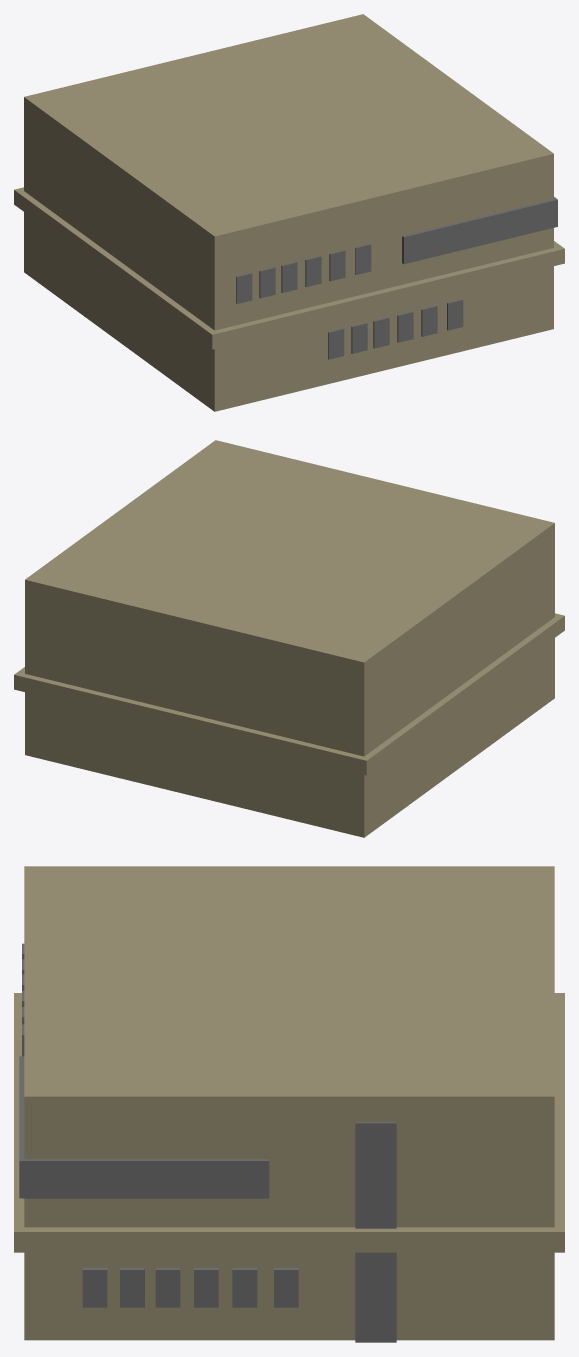
File: bldg.fbx
3 renders of one model, top to bottom at view 1: azimuth 30°, elevation 25°; view 2: azimuth 150°, elevation 25°; view 3: azimuth 270°, elevation 25°, orthographic. The views are drawn at different scales.
Visible parts, largest first — view 1: pCube72, pCube73, pCube77; view 2: pCube72, pCube73; view 3: pCube72, pCube73, pCube76, pCube74, pCube75, pCube86, pCube90, pCube88, pCube85, pCube87, pCube89, pCube77.
Boxes of the visible parts, left/top/right/bottom form: pCube72: left=24, top=14, right=553, bottom=411; pCube73: left=14, top=187, right=564, bottom=349; pCube77: left=402, top=197, right=557, bottom=264; pCube72: left=25, top=440, right=554, bottom=837; pCube73: left=14, top=613, right=564, bottom=775; pCube72: left=24, top=866, right=554, bottom=1340; pCube73: left=14, top=993, right=564, bottom=1252; pCube76: left=22, top=1157, right=269, bottom=1198; pCube74: left=355, top=1122, right=396, bottom=1228; pCube75: left=355, top=1252, right=396, bottom=1342; pCube86: left=232, top=1267, right=257, bottom=1307; pCube90: left=82, top=1267, right=107, bottom=1307; pCube88: left=155, top=1267, right=180, bottom=1307; pCube85: left=274, top=1267, right=298, bottom=1307; pCube87: left=194, top=1267, right=218, bottom=1307; pCube89: left=120, top=1267, right=144, bottom=1307; pCube77: left=19, top=1056, right=27, bottom=1198.
Bounding box in the file's own units: 13.66 × 6.51 × 13.3.
